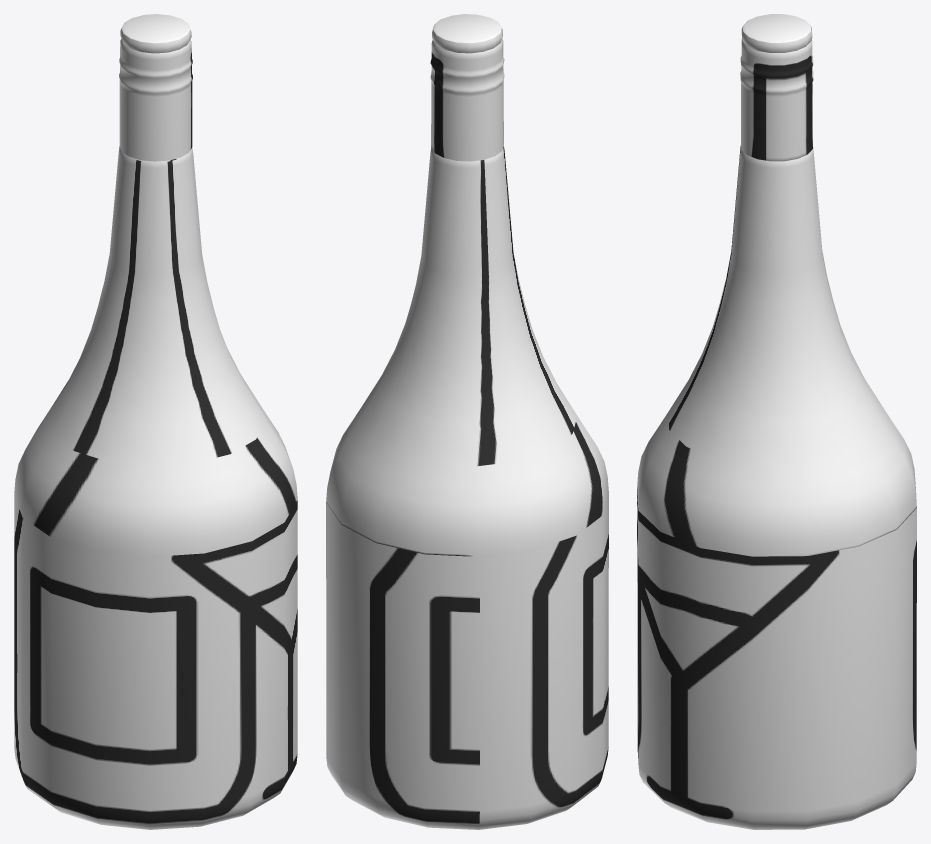
Rendered from Champagne.FBX.
3 views of the same model, side by side, from view 1: azimuth 30°, elevation 25°; view 2: azimuth 150°, elevation 25°; view 3: azimuth 270°, elevation 25° (orthographic).
Parts seen in each view (by area): view 1: Champagne; view 2: Champagne; view 3: Champagne.
Part boxes in pixels (left/top/right/bottom): Champagne: left=14, top=14, right=297, bottom=829; Champagne: left=326, top=14, right=608, bottom=829; Champagne: left=637, top=14, right=916, bottom=829.
Bounding box in the file's own units: 9.87 × 29.39 × 9.87.
